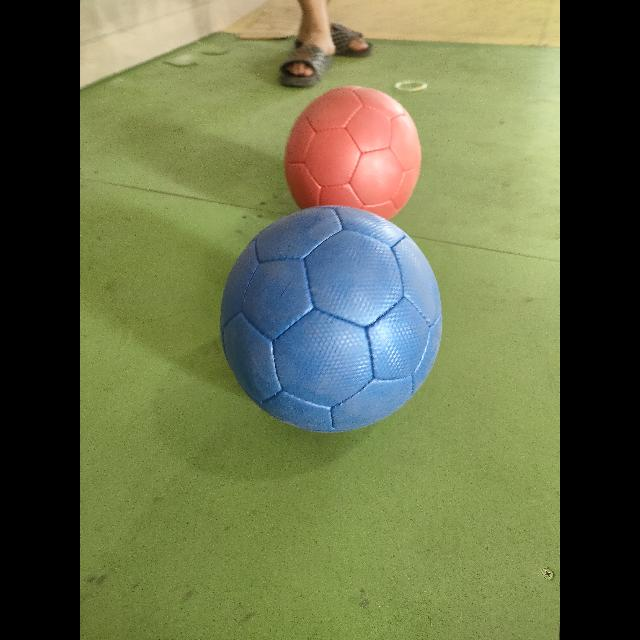B: (220, 206, 442, 432)
R: (285, 86, 421, 219)
